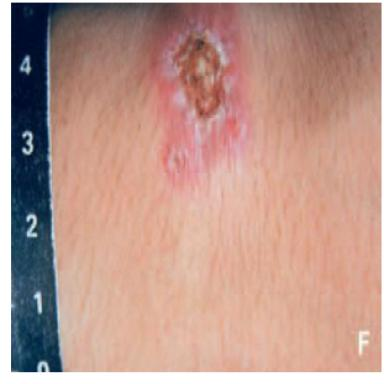Leishmanios: (157, 6, 246, 174)
